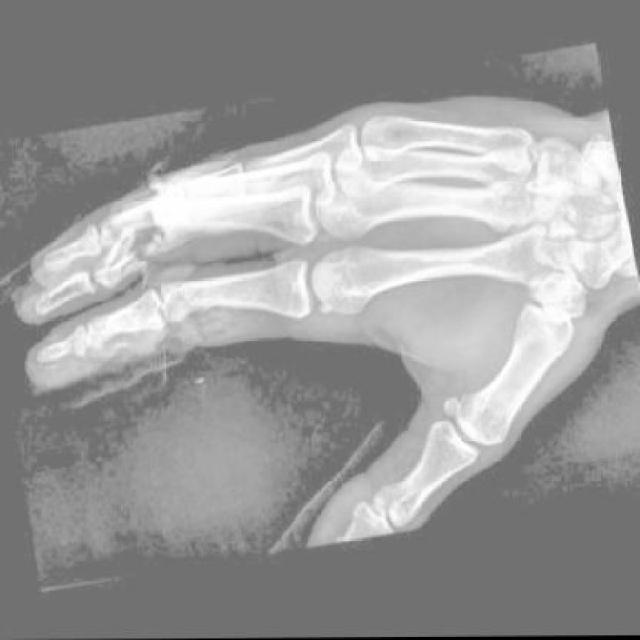Fracture: (94, 211, 174, 281), (89, 286, 168, 347)
